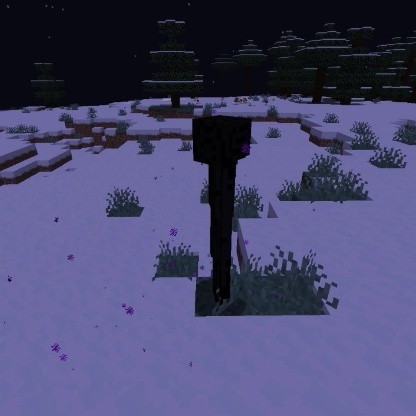enderman: (190, 113, 255, 305)
